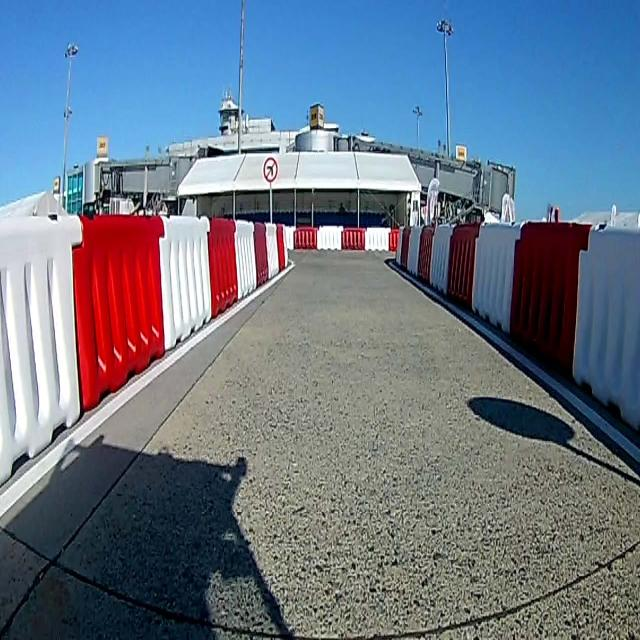soladonulmez: (263, 157, 277, 183)
